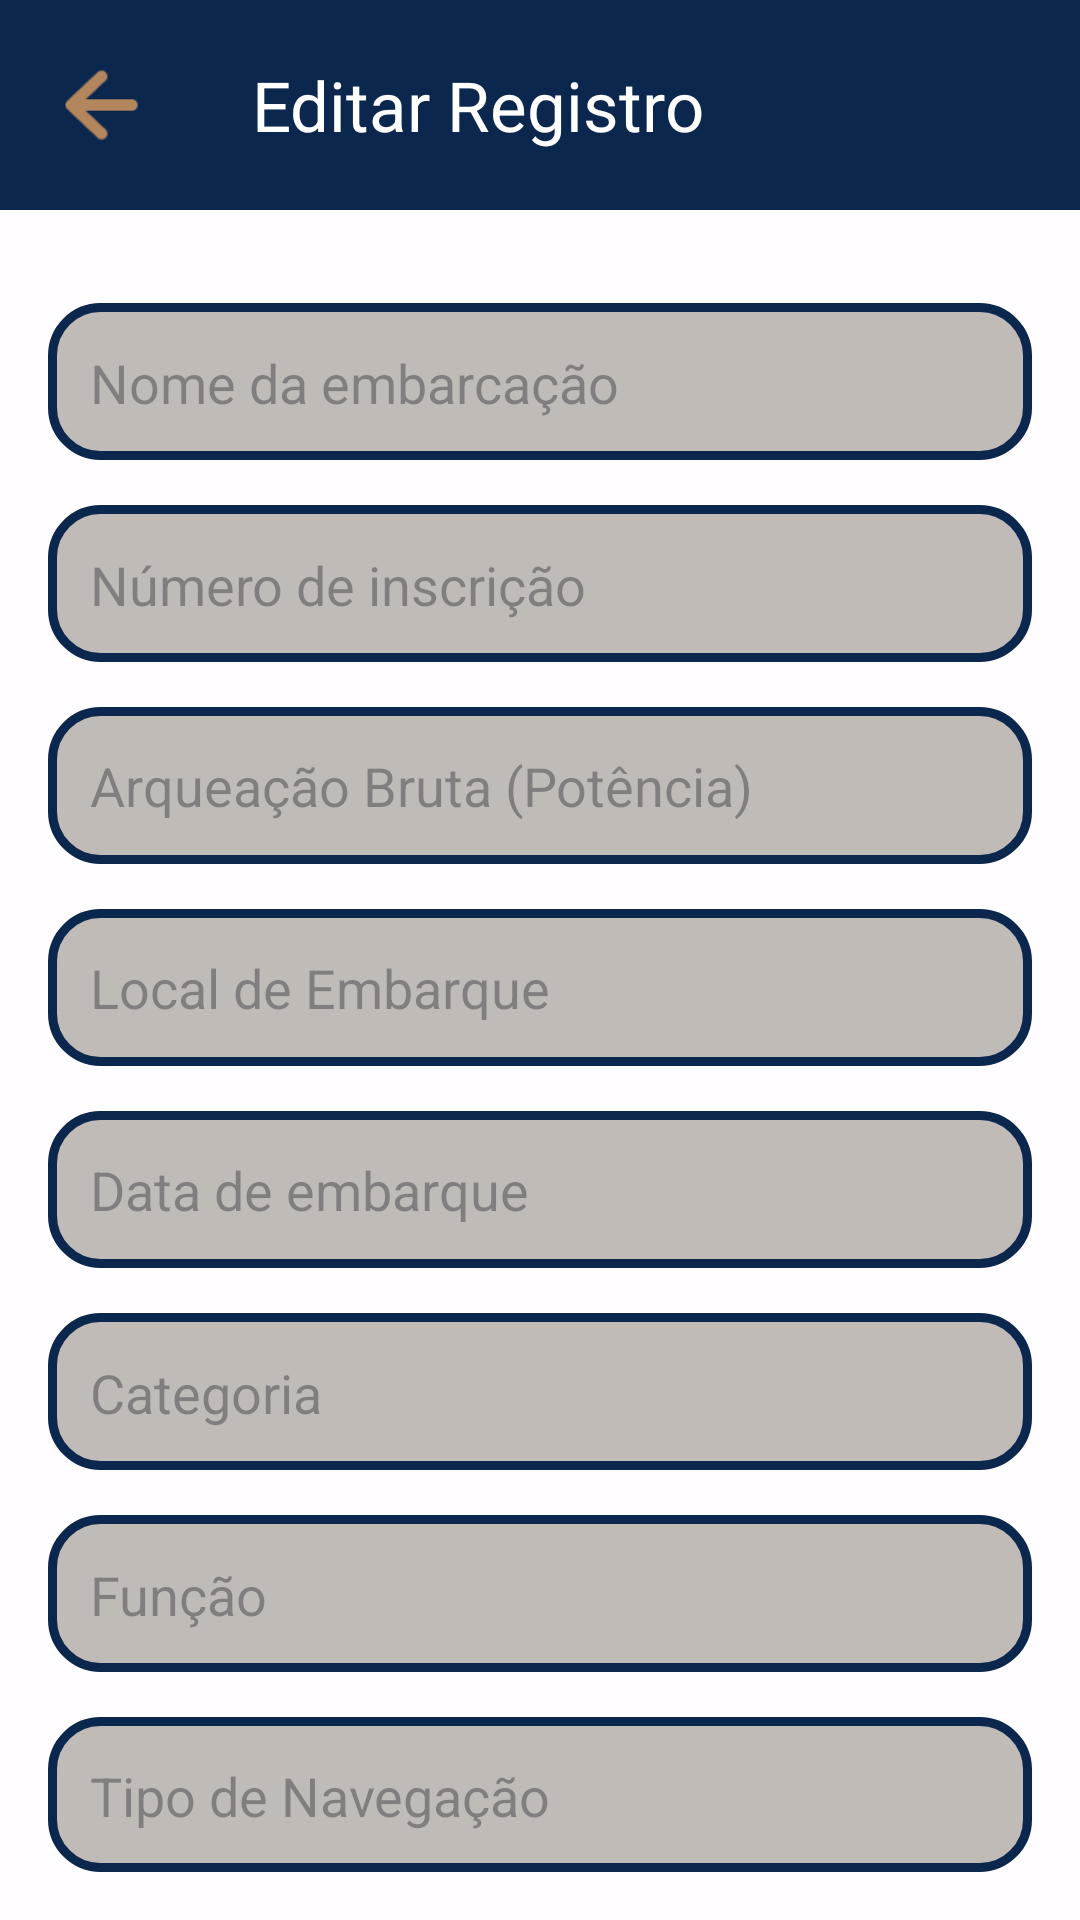

Locate icon controls on the screen. Image size 1080px×1920px, boxes as (x1, y1, x2, y2).
Voltar: (65, 70, 138, 140)
